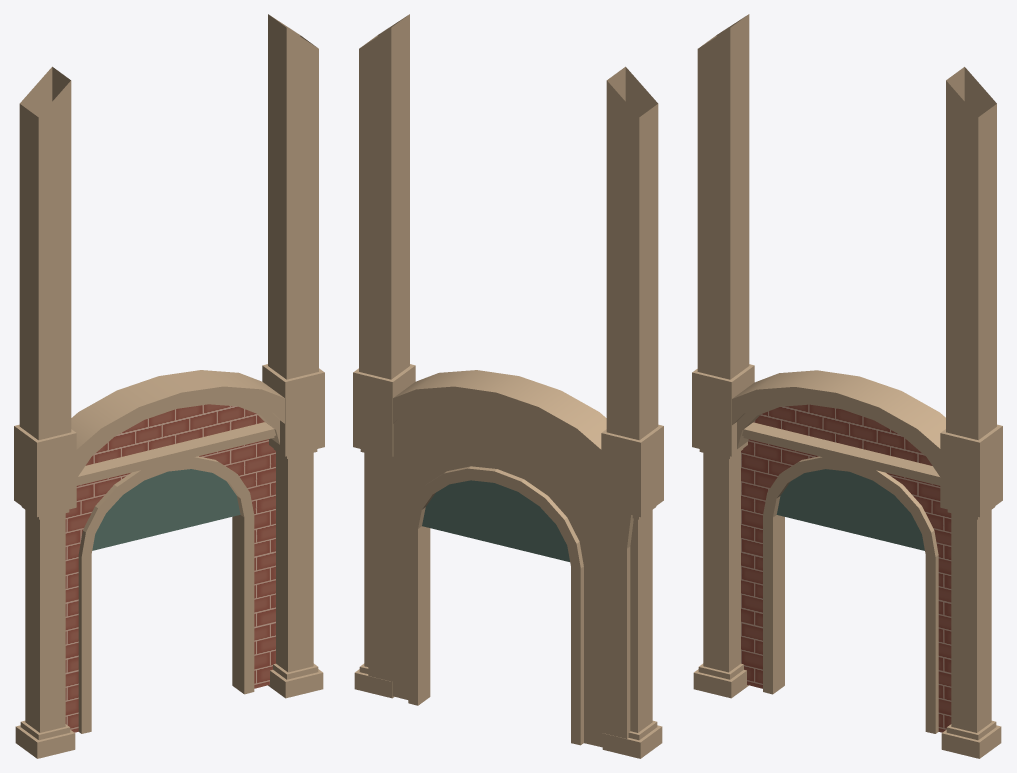
Rendered from schoolentrance 1.fbx.
3 views of the same model, side by side, from view 1: azimuth 30°, elevation 25°; view 2: azimuth 150°, elevation 25°; view 3: azimuth 330°, elevation 25° (orthographic).
Parts seen in each view (by area): view 1: entrance; view 2: entrance; view 3: entrance.
Part boxes in pixels (left/top/right/bottom): entrance: left=14, top=14, right=324, bottom=758; entrance: left=353, top=14, right=663, bottom=758; entrance: left=692, top=14, right=1002, bottom=758.
Size of the model in its own units: 5.9 by 13.11 by 0.8994.
